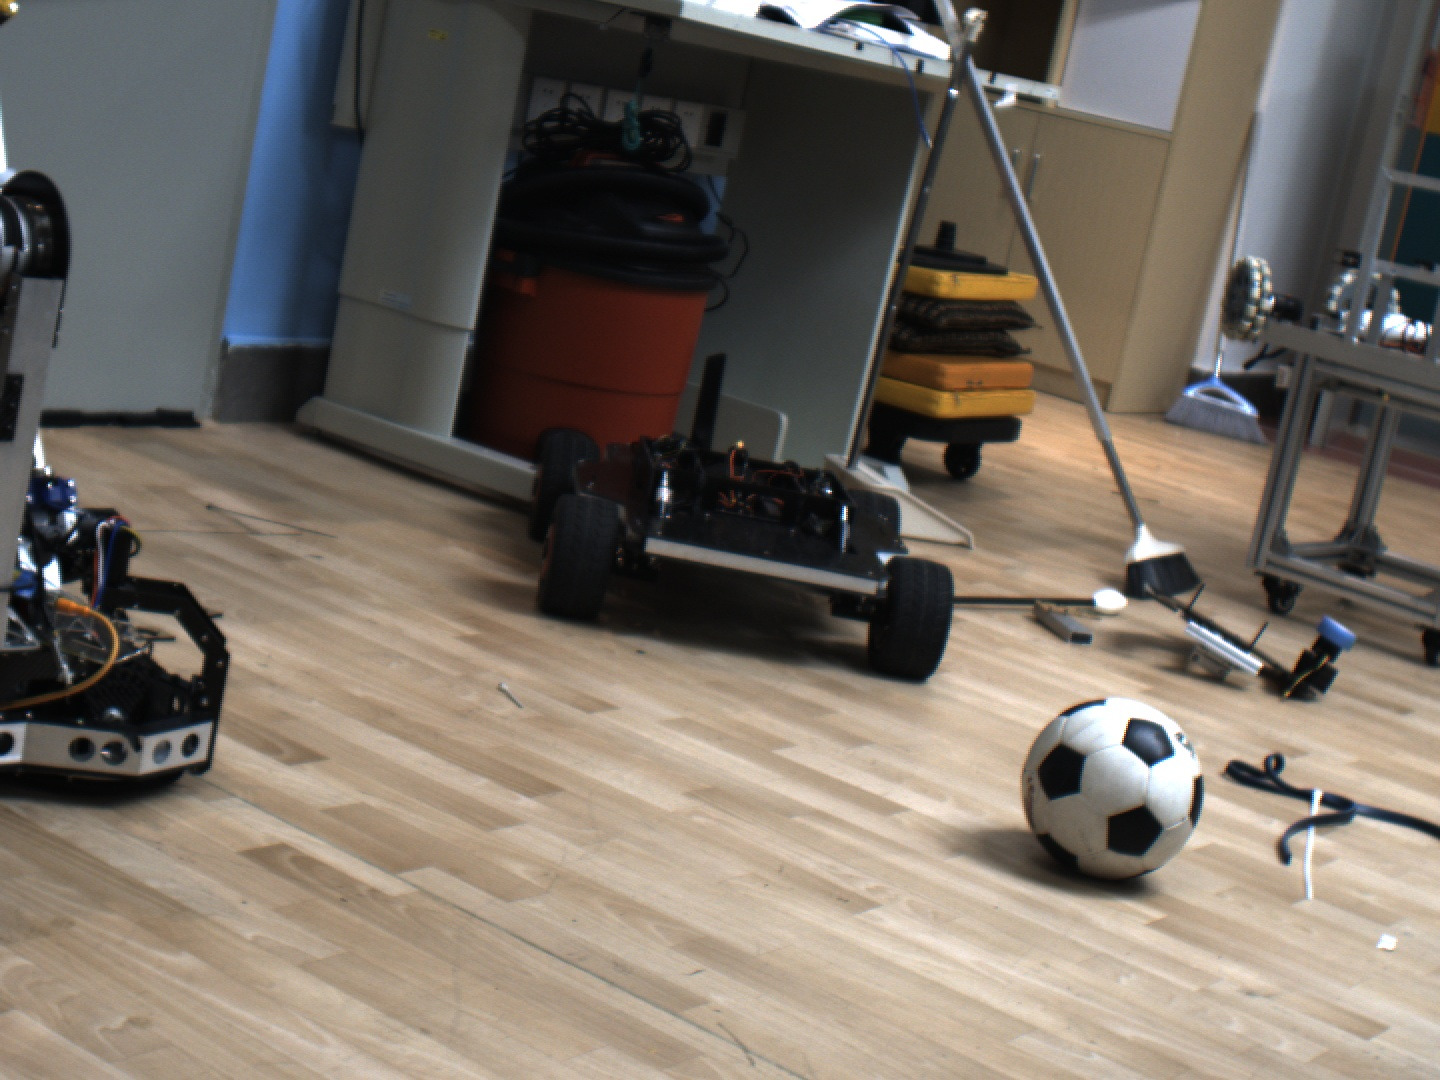ball: (1010, 682, 1235, 886)
